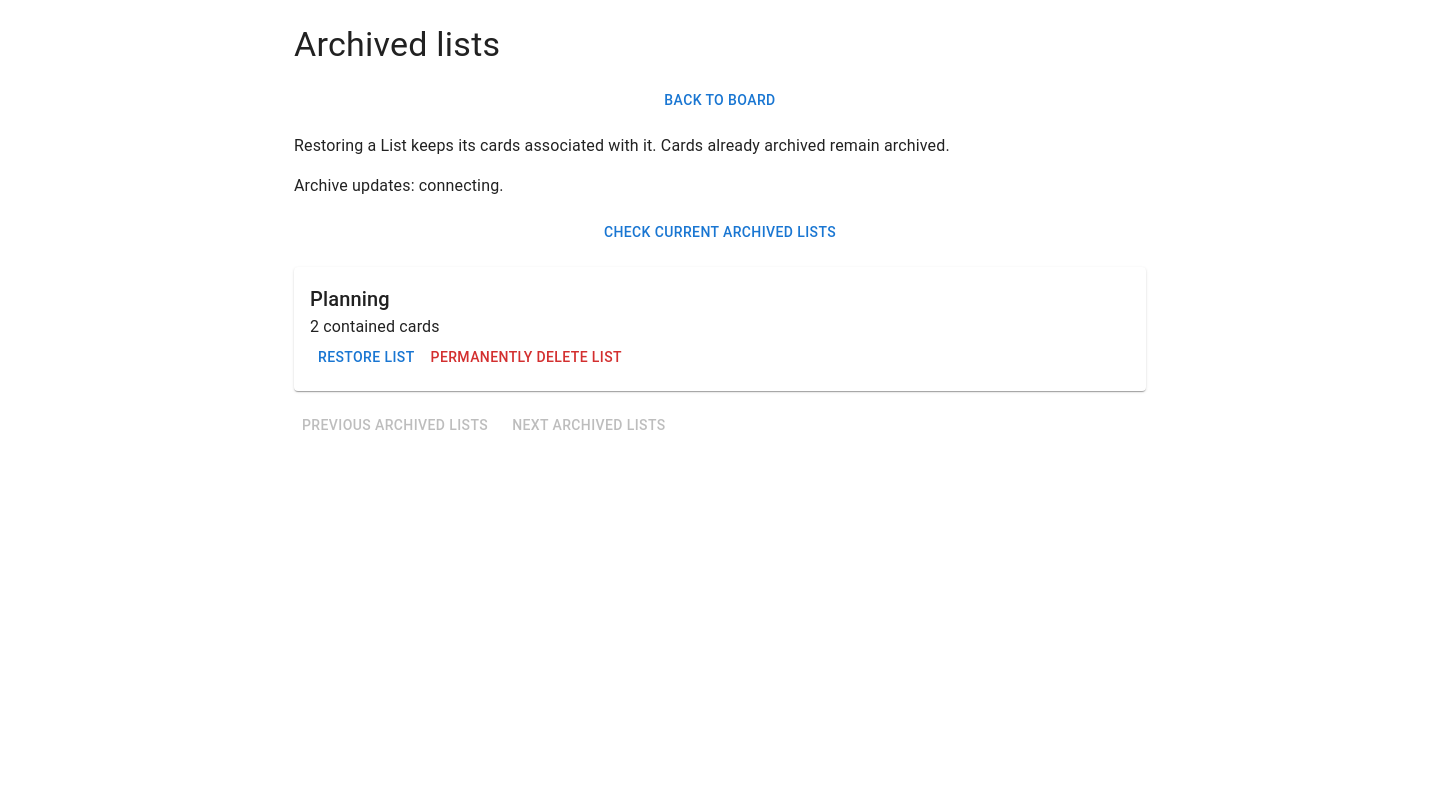
Scenario: retires a pending restore when fresh archive admission denies access and ignores its late acknowledgment
This screenshot has width=1440, height=810.
Step 1. Click the button with aria-label "Restore Planning list" → (366, 357), box 310,339 -> 422,376
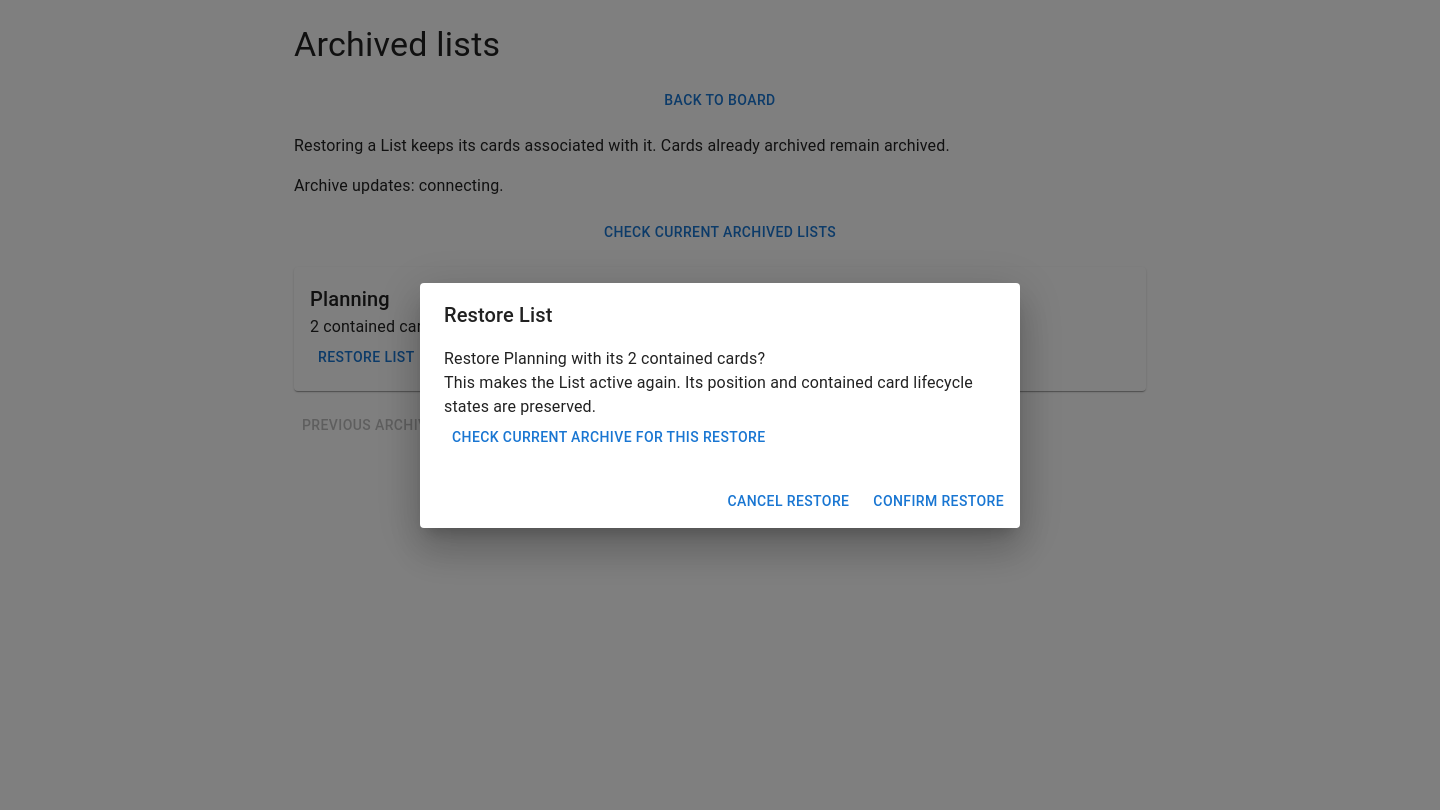
Step 2. Click the button "Confirm restore" → (939, 501), box 865,483 -> 1012,520
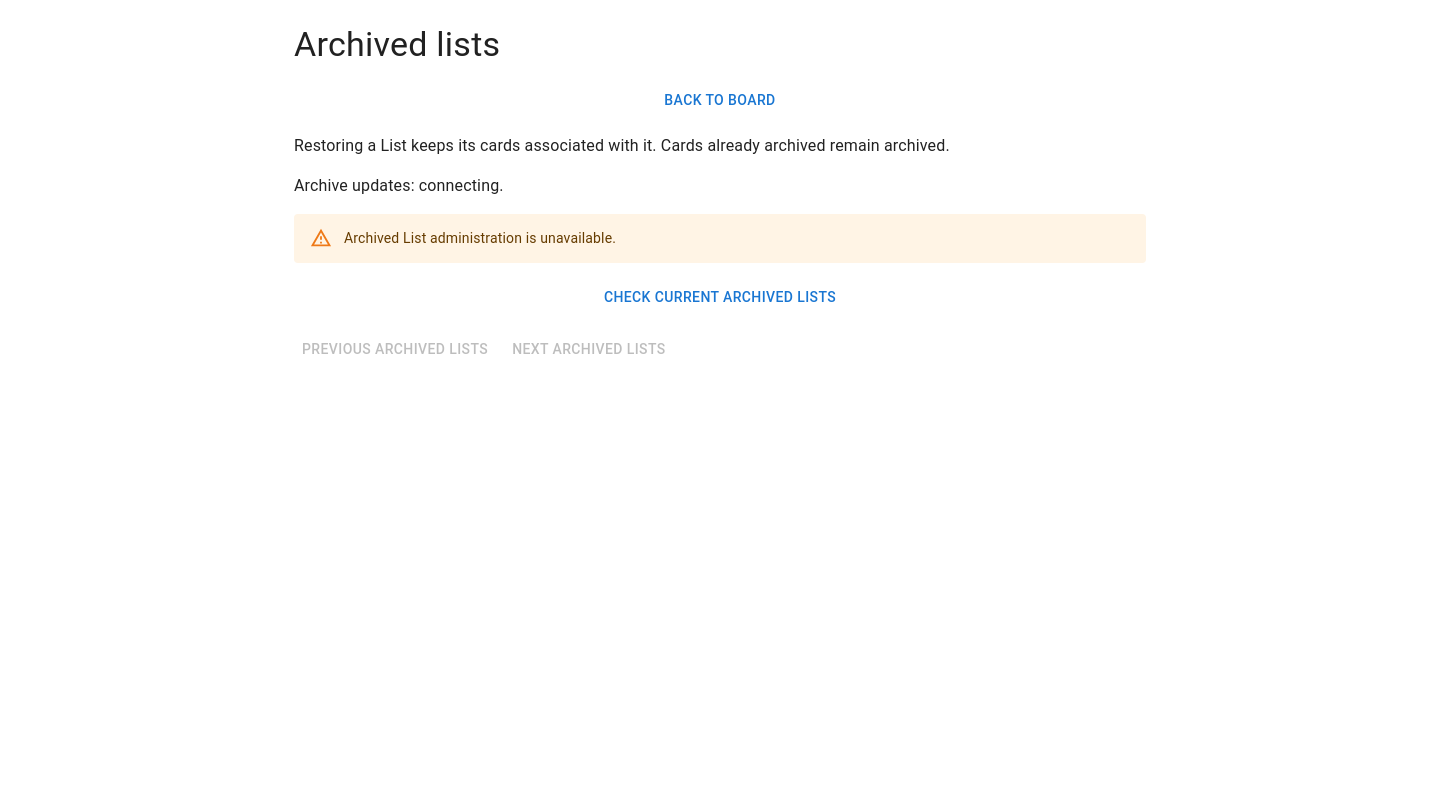
Result: the text "Archived List administration is unavailable." is shown at 344,230 -> 616,246
